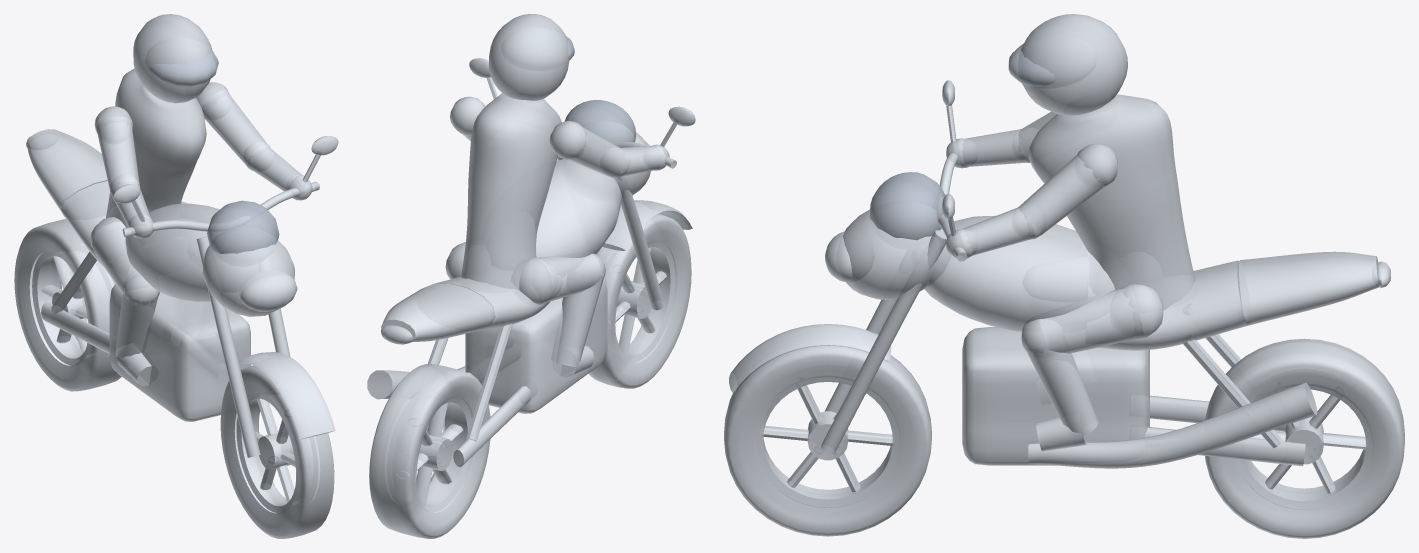
File: tesla_fsd_motorcycle_ghost.glb
3 renders of one model, left to right at view 1: azimuth 30°, elevation 25°; view 2: azimuth 150°, elevation 25°; view 3: azimuth 270°, elevation 25°, orthographic. The views are drawn at different scales.
Visible parts, largest first — view 1: TeslaFSDMotorcycleGhost; view 2: TeslaFSDMotorcycleGhost; view 3: TeslaFSDMotorcycleGhost.
Boxes of the visible parts, x1,y1,x2,y2 form: TeslaFSDMotorcycleGhost: (14, 14, 338, 538); TeslaFSDMotorcycleGhost: (367, 14, 695, 538); TeslaFSDMotorcycleGhost: (724, 14, 1404, 538).
Size of the model in its own units: 0.91 by 1.69 by 2.03.
